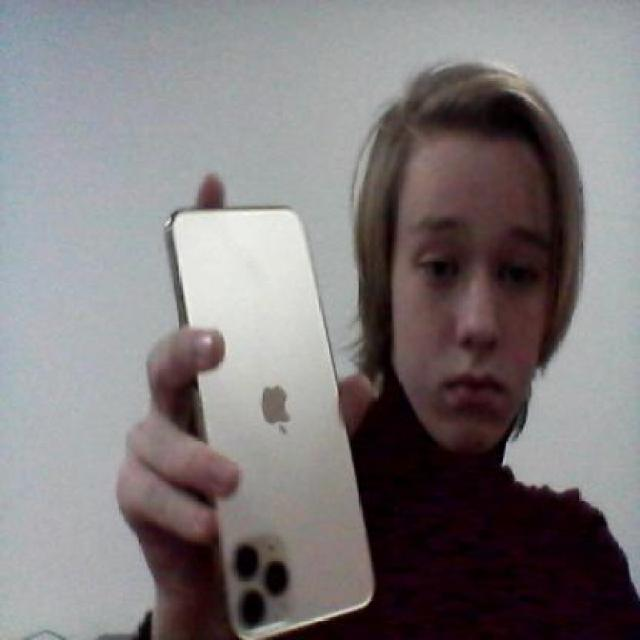mobile: (157, 175, 380, 636)
